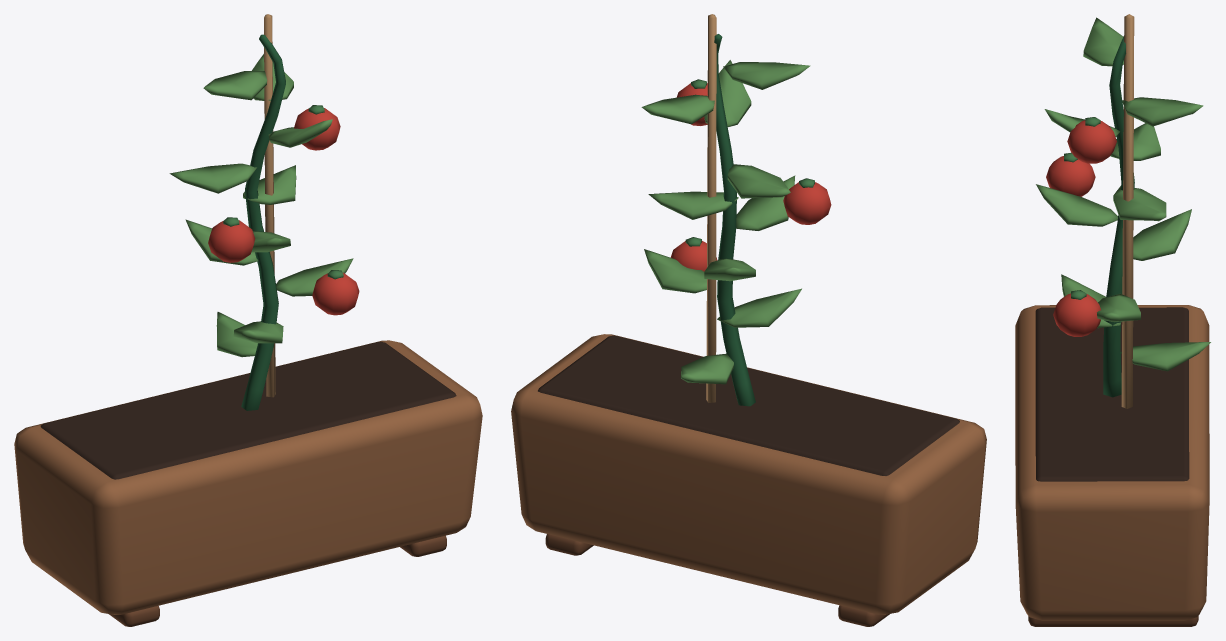
The model's file is tomato_planter.glb.
3 views of the same model, side by side, from view 1: azimuth 30°, elevation 25°; view 2: azimuth 150°, elevation 25°; view 3: azimuth 270°, elevation 25° (orthographic). The views are drawn at different scales.
Visible parts, largest first — view 1: tomato_planter, tomato_2, tomato_1, tomato_3; view 2: tomato_planter, tomato_2, tomato_1; view 3: tomato_planter, tomato_3, tomato_1, tomato_2.
Part boxes in pixels (x1=…): tomato_planter: x1=14, y1=14, x2=482, y2=626; tomato_2: x1=208, y1=217, x2=255, y2=262; tomato_1: x1=312, y1=270, x2=359, y2=315; tomato_3: x1=294, y1=105, x2=340, y2=150; tomato_planter: x1=511, y1=14, x2=986, y2=626; tomato_2: x1=783, y1=178, x2=831, y2=224; tomato_1: x1=670, y1=237, x2=717, y2=271; tomato_planter: x1=1015, y1=14, x2=1210, y2=626; tomato_3: x1=1067, y1=117, x2=1116, y2=163; tomato_1: x1=1053, y1=290, x2=1100, y2=336; tomato_2: x1=1046, y1=152, x2=1095, y2=196.
Size of the model in its own units: 0.6532 by 0.8542 by 0.2767.
